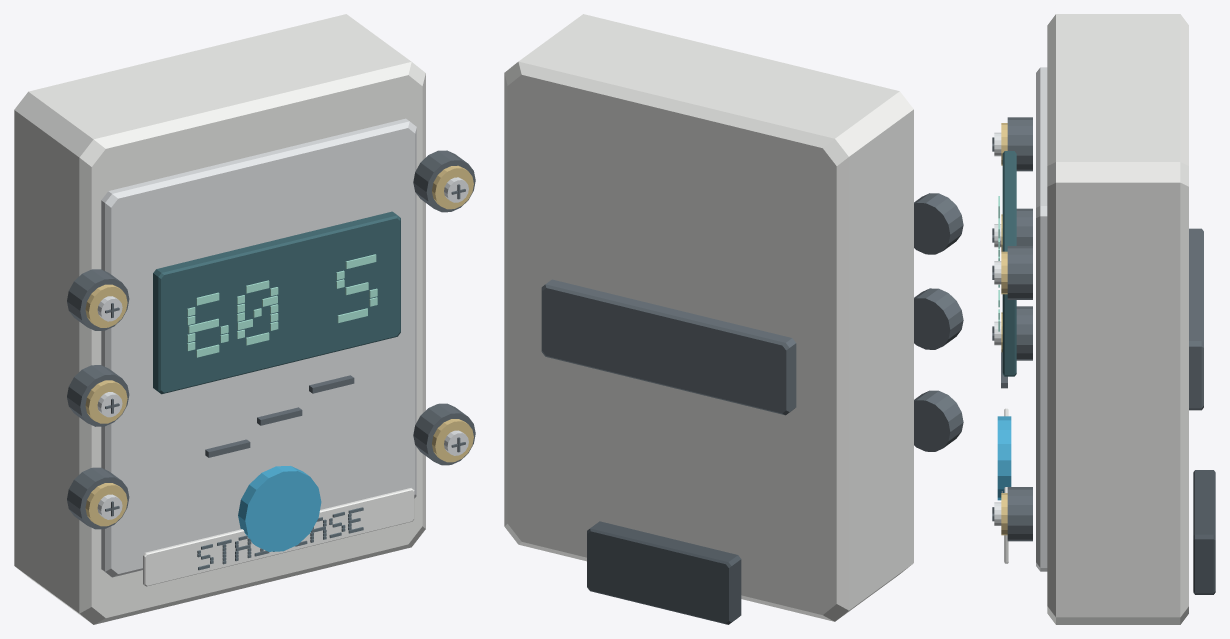
Rendered from staircaseTimer.glb.
3 views of the same model, side by side, from view 1: azimuth 30°, elevation 25°; view 2: azimuth 150°, elevation 25°; view 3: azimuth 270°, elevation 25° (orthographic). The views are drawn at different scales.
Parts seen in each view (by area): view 1: staircaseTimer-preview; view 2: staircaseTimer-preview; view 3: staircaseTimer-preview.
Boxes of the visible parts, x1,y1,x2,y2 form: staircaseTimer-preview: (14,14,475,624); staircaseTimer-preview: (504,14,963,624); staircaseTimer-preview: (992,14,1215,624).
Bounding box in the file's own units: 2.52 × 3.03 × 1.29.
